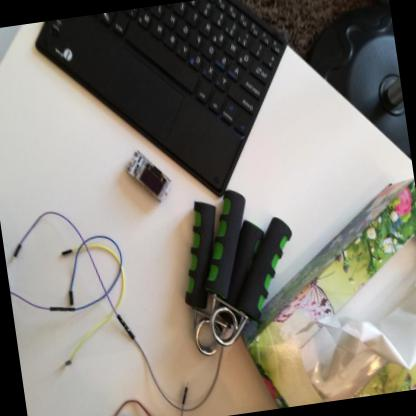Heltec_ESP32_Lora: (121, 143, 179, 211)
